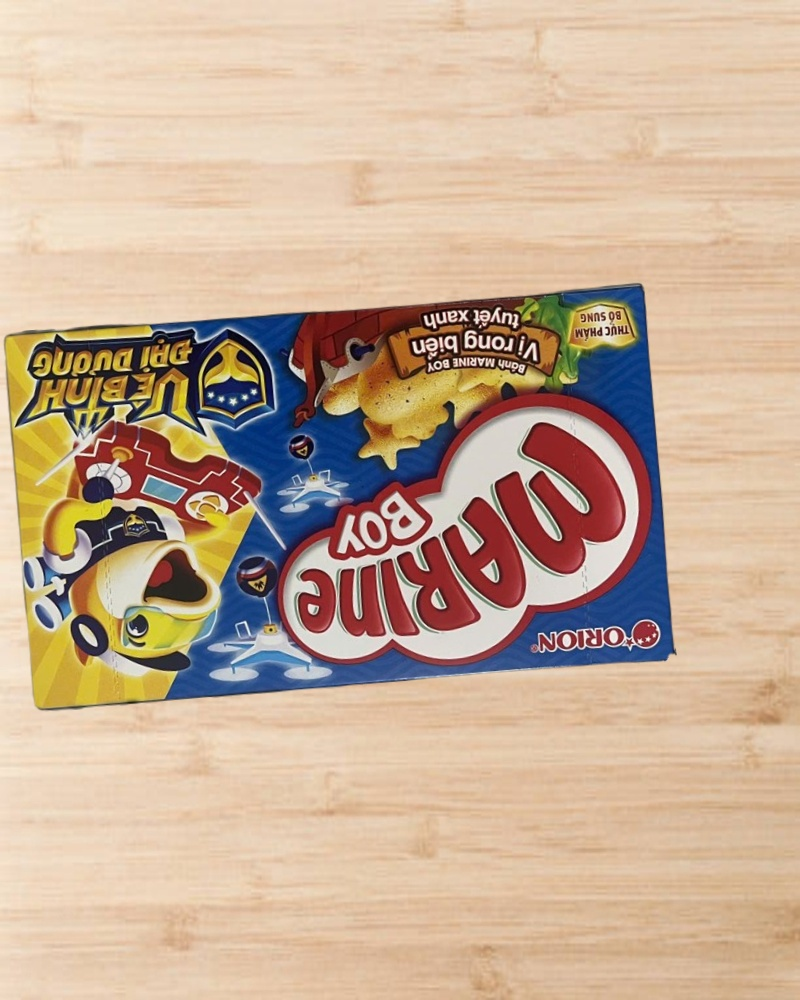Marine: (1, 279, 677, 716)
